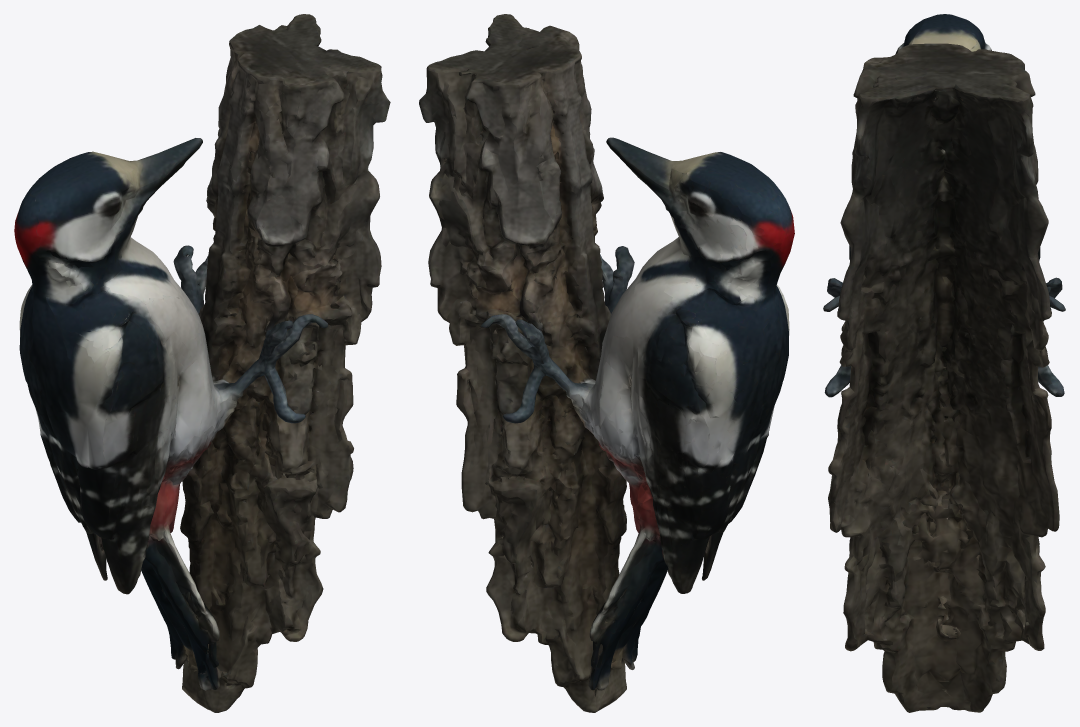
The model's file is great-spotted-woodpecker-v21.glb.
3 views of the same model, side by side, from view 1: azimuth 30°, elevation 25°; view 2: azimuth 150°, elevation 25°; view 3: azimuth 270°, elevation 25° (orthographic). The views are drawn at different scales.
Parts seen in each view (by area): view 1: geometry_0; view 2: geometry_0; view 3: geometry_0.
Part boxes in pixels (left/top/right/bottom): geometry_0: left=14, top=14, right=390, bottom=712; geometry_0: left=419, top=14, right=794, bottom=712; geometry_0: left=823, top=14, right=1065, bottom=712.
Bounding box in the file's own units: 0.1279 × 0.2298 × 0.0735.
Materials: 1 (1 with a texture image).
